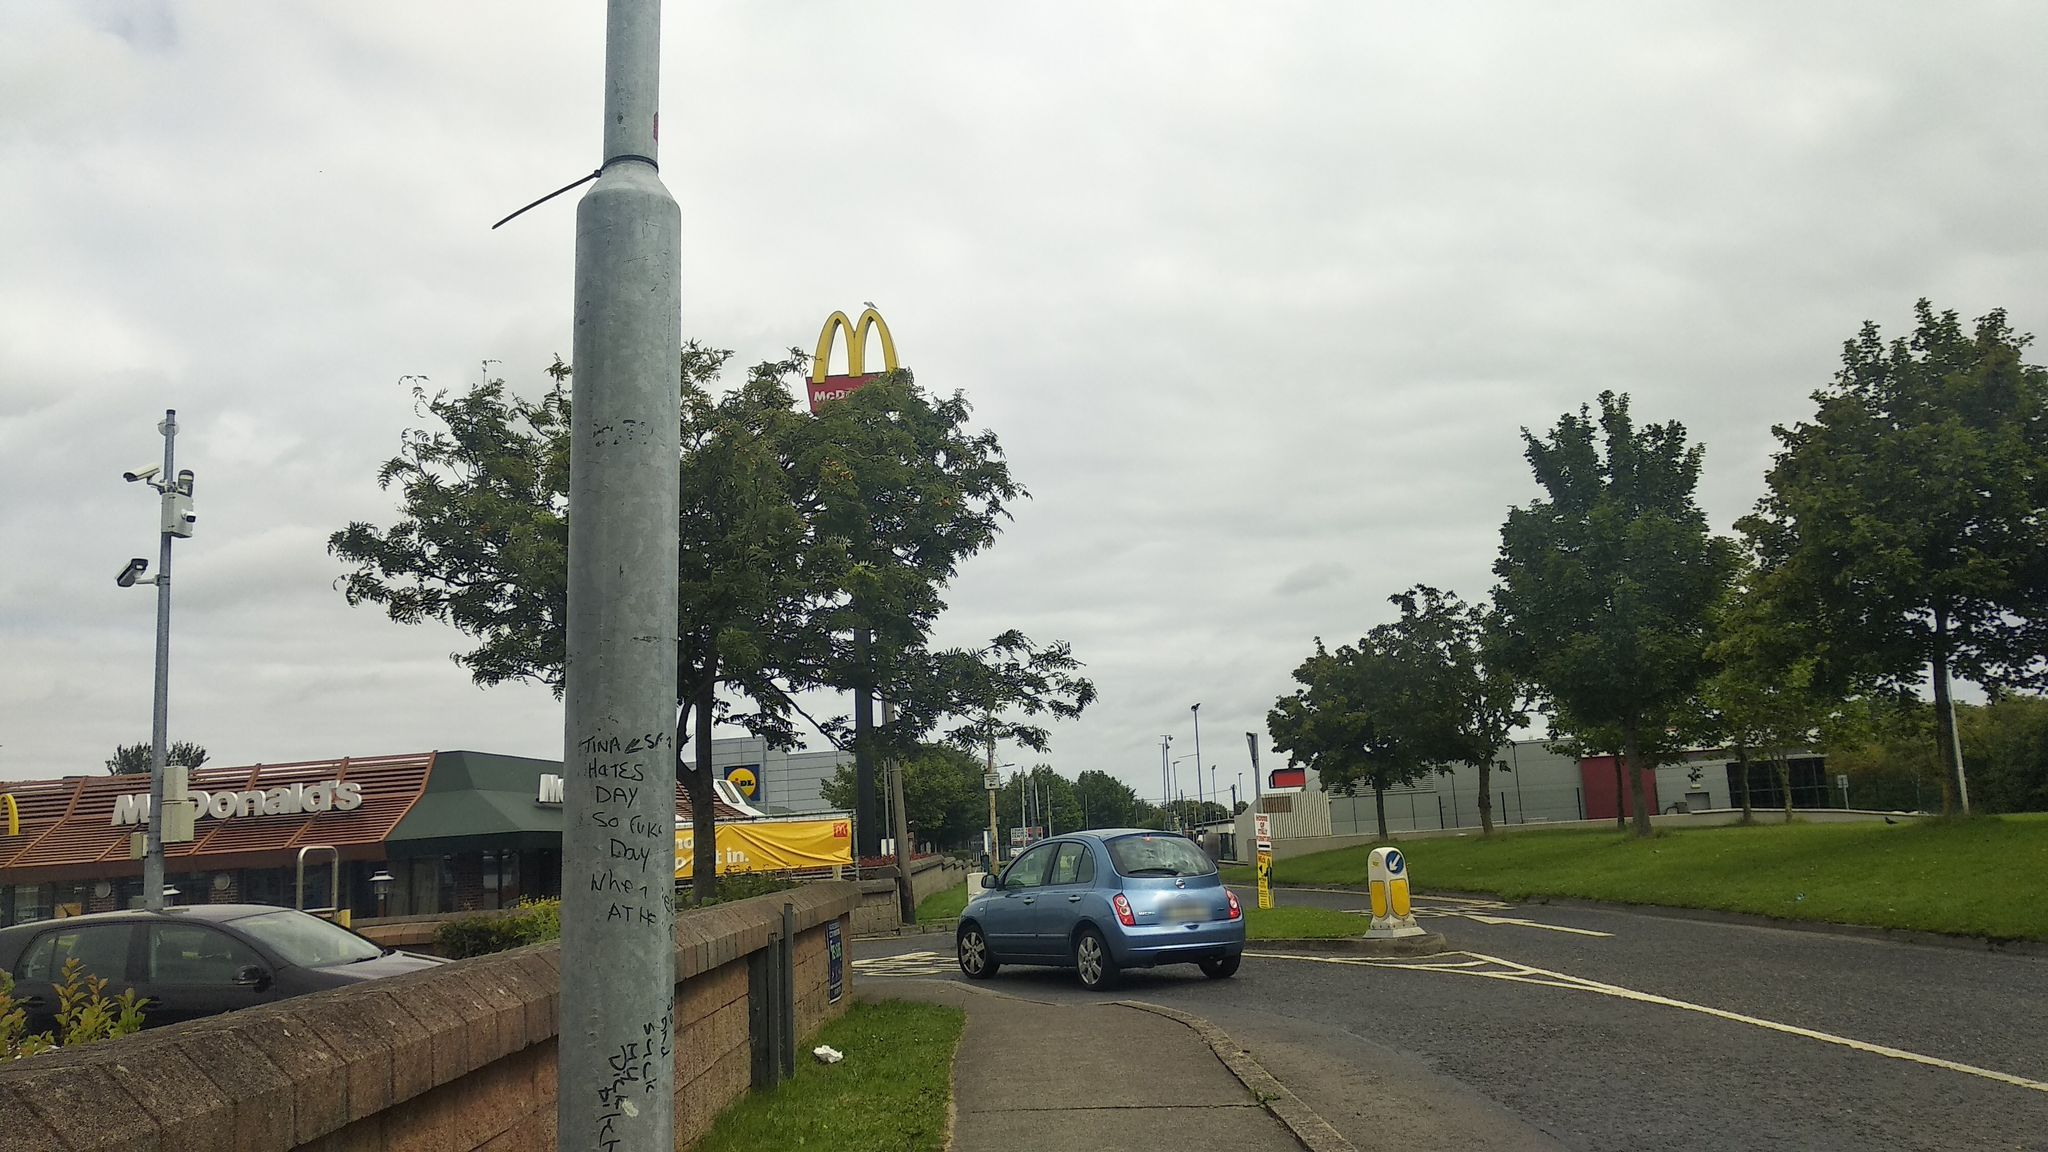vinyl banner: (677, 812, 862, 881)
